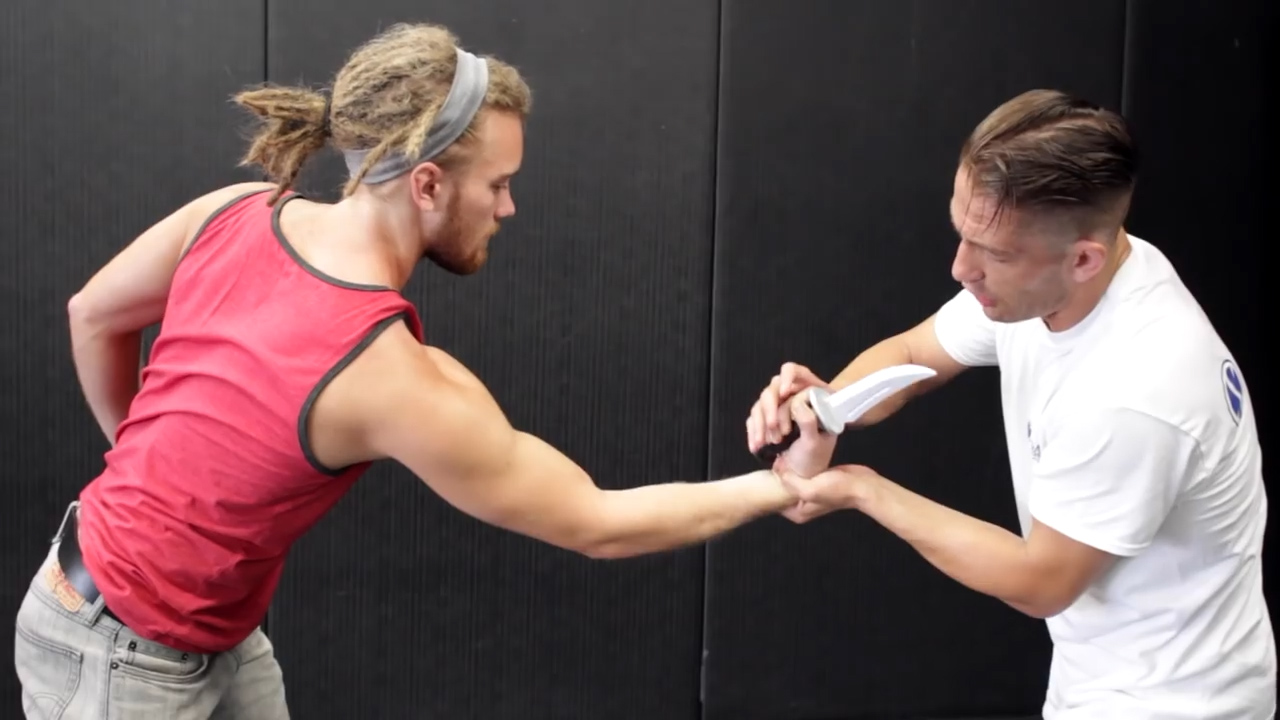knife: (741, 346, 949, 469)
